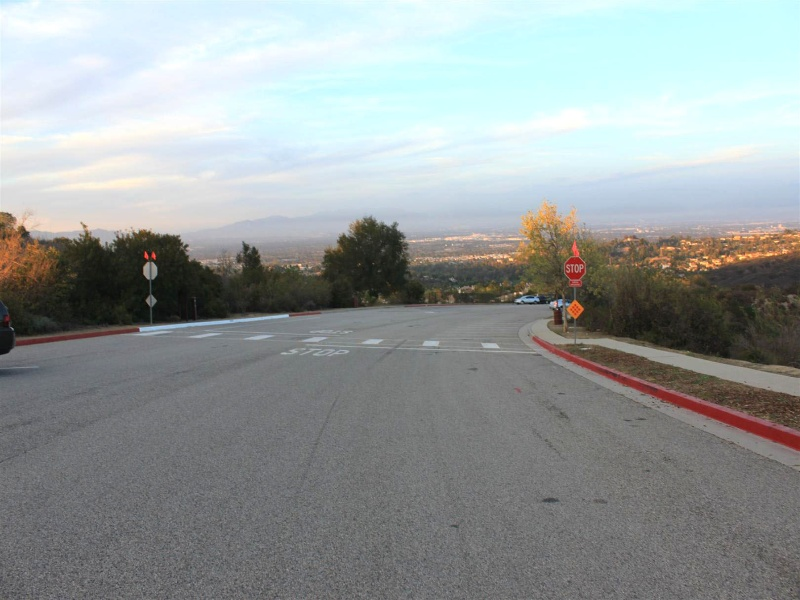stop sign: (561, 255, 589, 283)
